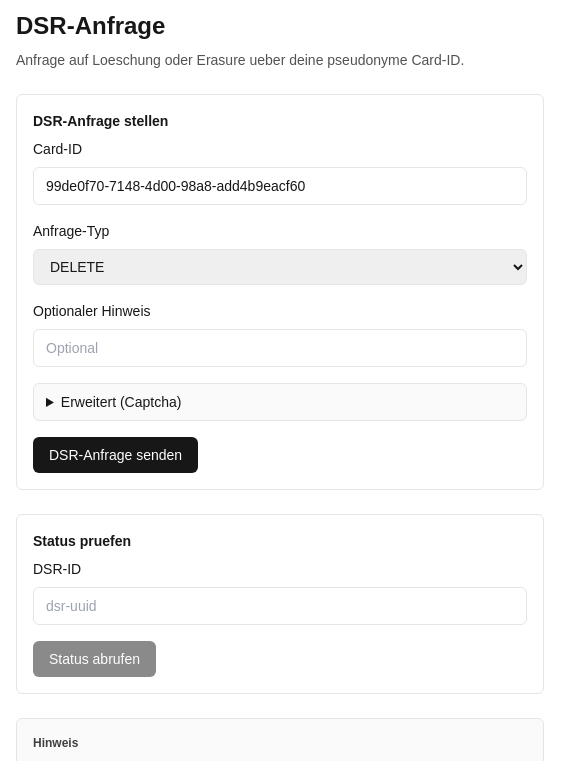
Scenario: PwaDsrPage › submits a DSR request and shows confirmation
The width and height of the screenshot is (561, 761).
Replace the text in the field labelled "Card-ID" with "card-123" at point(280, 186), box [33,167,527,205]
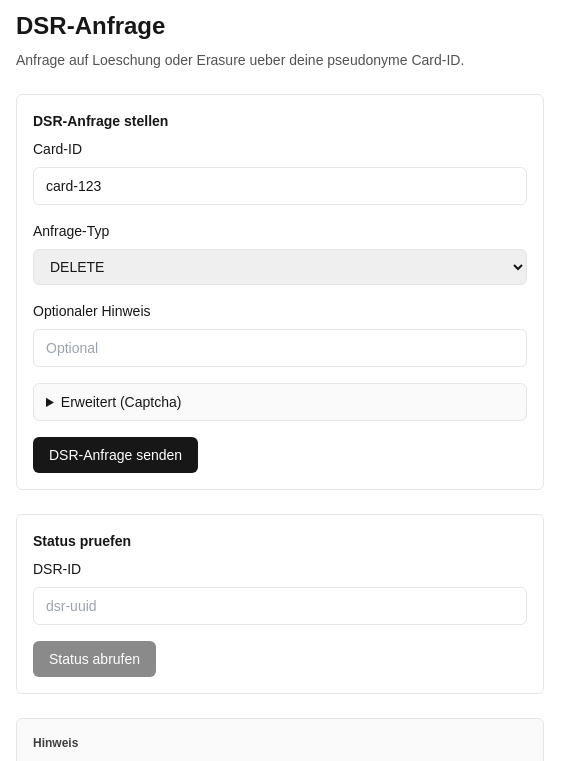
Click the button "DSR-Anfrage senden".
click(116, 455)  # box [33,437,198,473]
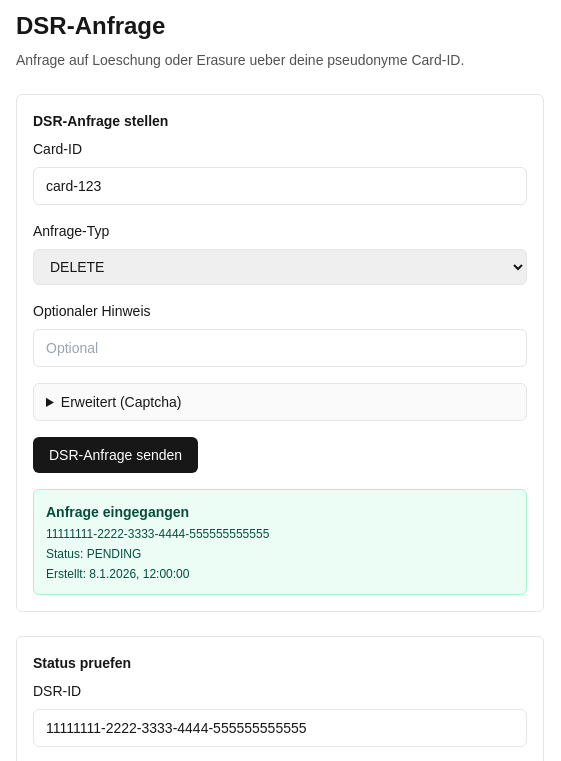
Result: the element with test id "dsr-confirmation" is shown at [33,489,527,595]
Result: the text with test id "dsr-request-id" reads "11111111-2222-3333-4444-555555555555" at [46,527,269,541]
